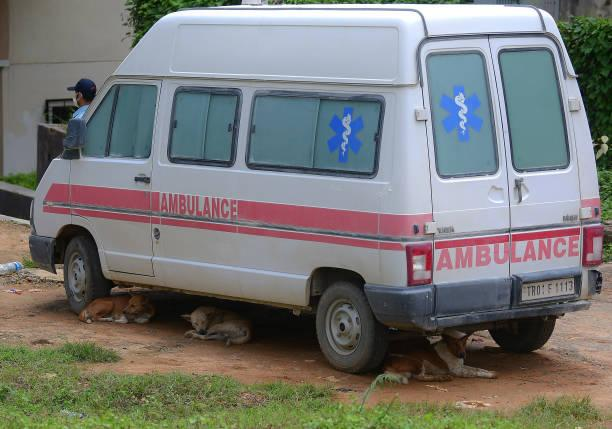ER: (29, 6, 603, 360)
